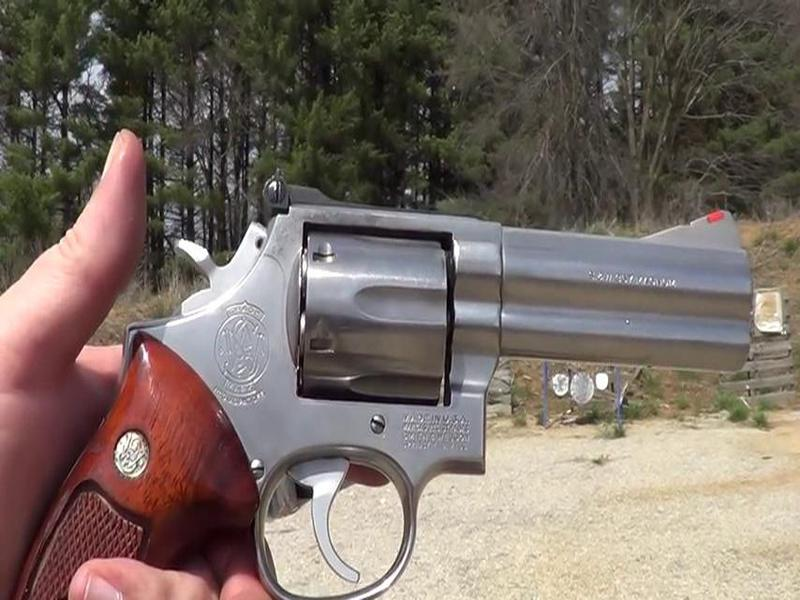Revolver: (73, 155, 752, 600)
